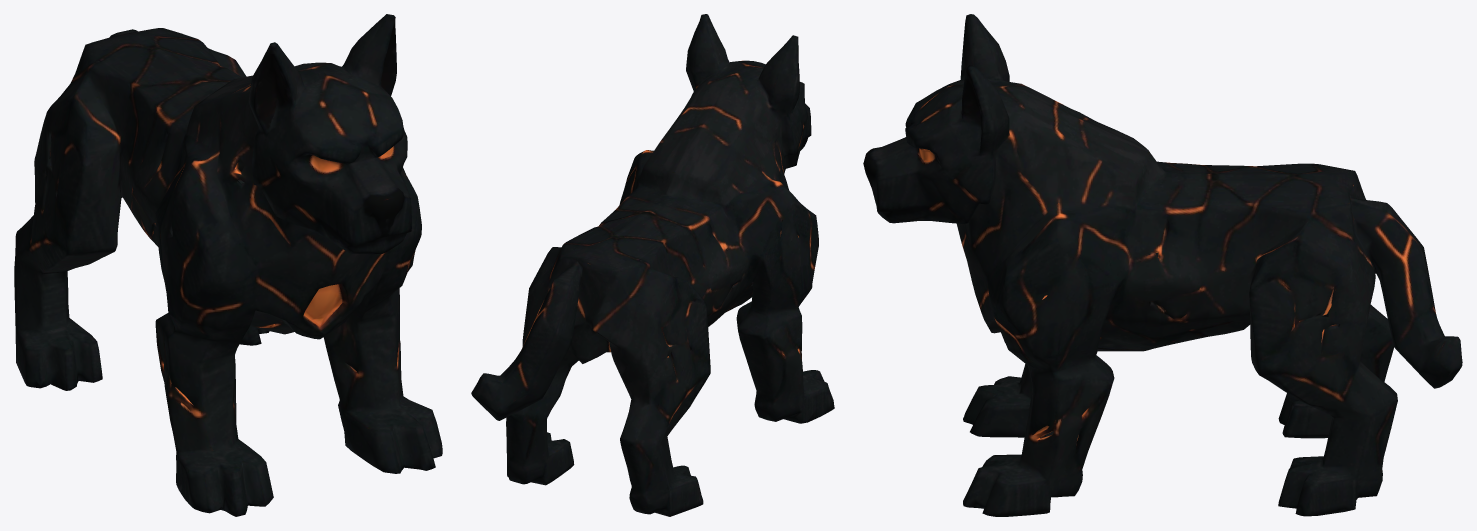
The model's file is magma-hound.glb.
The picture shows the model from 3 angles, left to right: view 1: azimuth 30°, elevation 25°; view 2: azimuth 150°, elevation 25°; view 3: azimuth 270°, elevation 25°; orthographic projection. The views are drawn at different scales.
Visible parts, largest first — view 1: world; view 2: world; view 3: world.
Part boxes in pixels (box(x1,y1,x2,y2)): world: box(14, 14, 442, 516); world: box(471, 14, 834, 516); world: box(863, 14, 1462, 516).
Size of the model in its own units: 0.4401 by 0.7814 by 1.
1 material, 1 textured.
